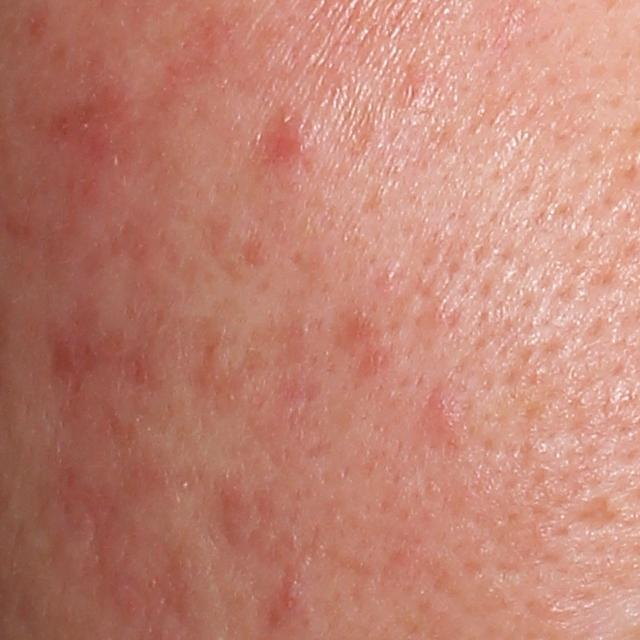atrophic_scar: (572, 500, 626, 531)
papule: (268, 113, 309, 170), (414, 391, 463, 437), (275, 584, 302, 619)
